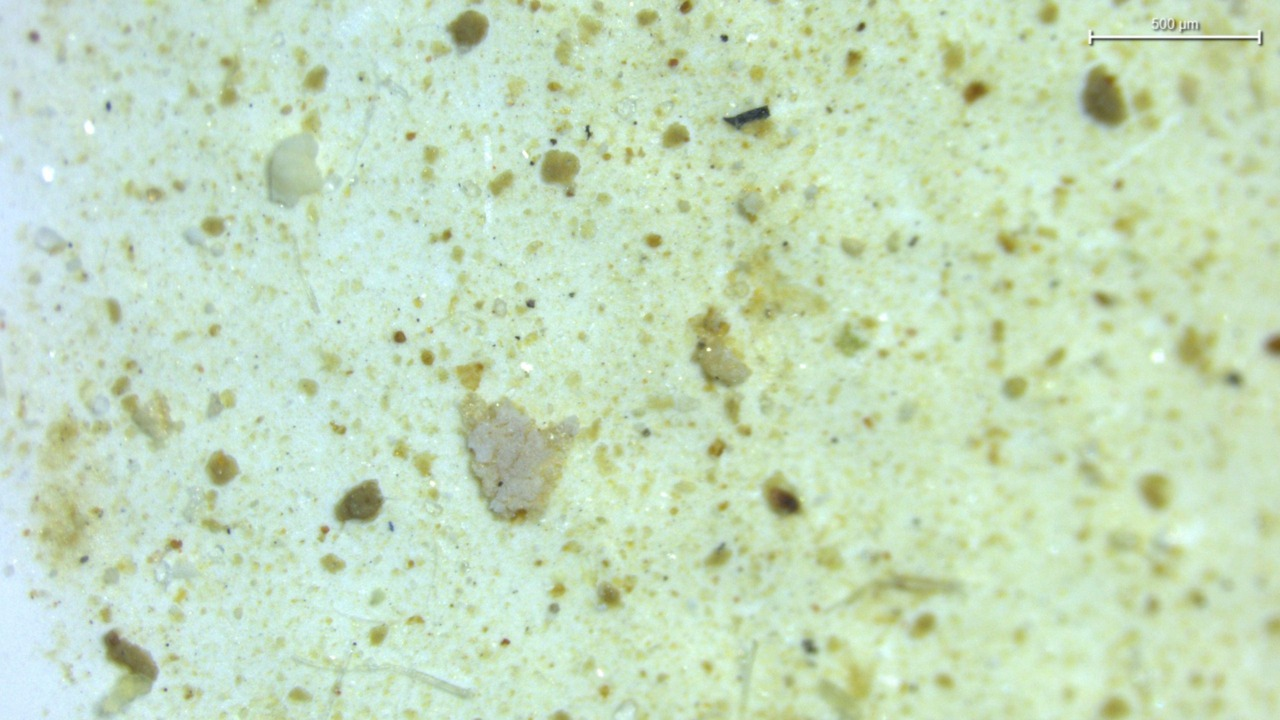microplastic_fragment: (462, 396, 577, 518), (267, 133, 323, 206), (696, 343, 750, 386)
